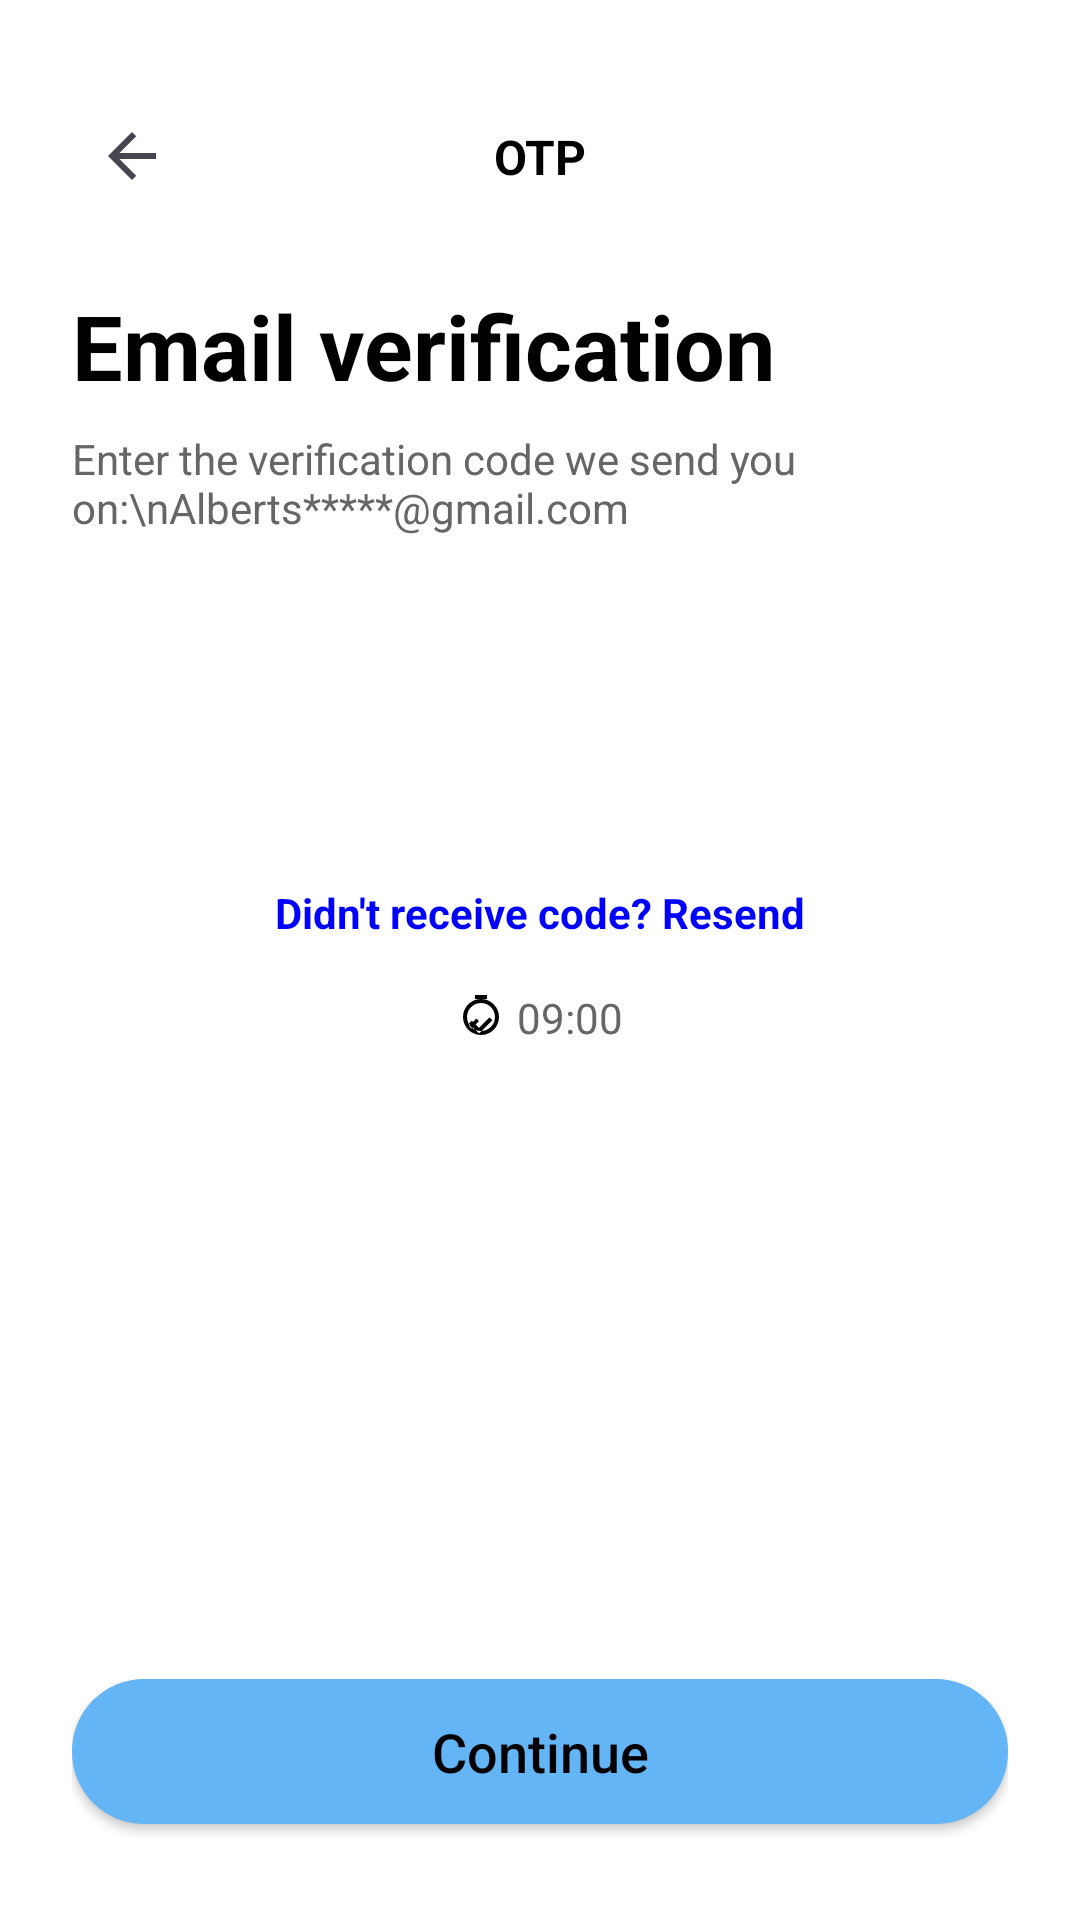

Screen size 1080 x 1920. Icon name, then its center in pixels as (x=x, y=y):
Back: (x=132, y=156)
Timer Icon: (x=481, y=1015)
